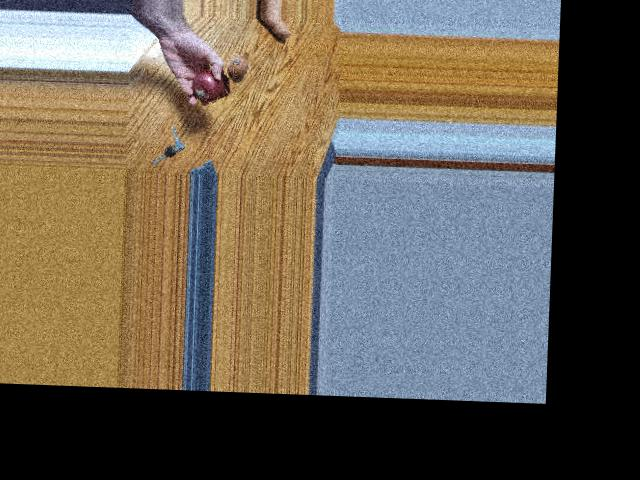onion: (193, 71, 224, 101)
